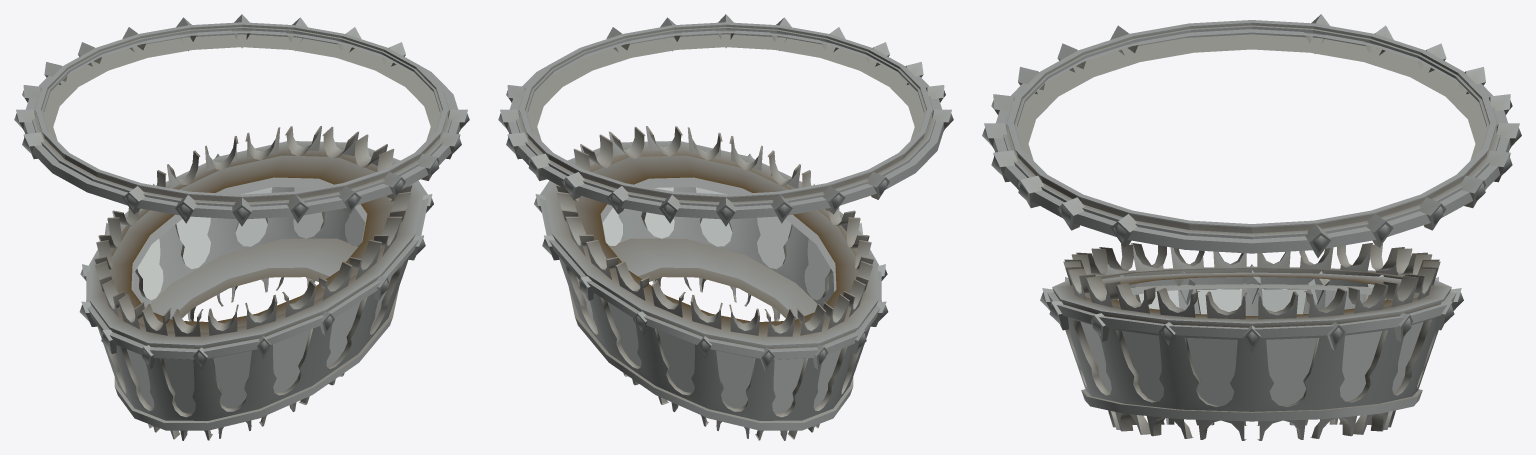
The picture shows the model from 3 angles, left to right: view 1: azimuth 30°, elevation 25°; view 2: azimuth 150°, elevation 25°; view 3: azimuth 270°, elevation 25°; orthographic projection. The views are drawn at different scales.
Visible parts, largest first — view 1: G:\FFXIV-MapTools\exports\d2f3\bg\ex1\02_dra_d2\fld\d2f3\bgp (×9); view 2: G:\FFXIV-MapTools\exports\d2f3\bg\ex1\02_dra_d2\fld\d2f3\bgp (×9); view 3: G:\FFXIV-MapTools\exports\d2f3\bg\ex1\02_dra_d2\fld\d2f3\bgp (×9).
Part boxes in pixels (x1,y1,x2,y2): G:\FFXIV-MapTools\exports\d2f3\bg\ex1\02_dra_d2\fld\d2f3\bgp (×9): (14, 14, 469, 440); G:\FFXIV-MapTools\exports\d2f3\bg\ex1\02_dra_d2\fld\d2f3\bgp (×9): (498, 14, 953, 440); G:\FFXIV-MapTools\exports\d2f3\bg\ex1\02_dra_d2\fld\d2f3\bgp (×9): (982, 14, 1521, 440).
Size of the model in its own units: 91.88 by 68.88 by 95.12.
